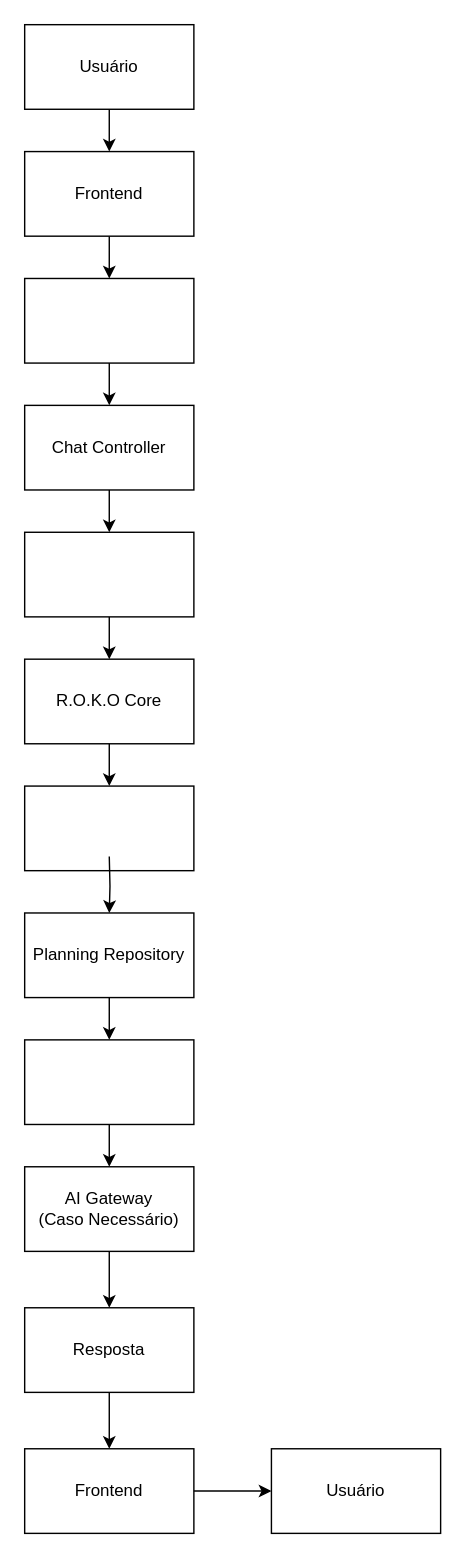
Image size: 465x1558. Some labels were removed from this diagram. The box of each missing label's shape, as (x1, y1, x2, y2) in pixels:
Chat Service: (23, 531, 194, 617)
Planning Module: (23, 785, 194, 871)
POST/api/chat: (23, 277, 194, 363)
PostgreSQL: (23, 1038, 194, 1124)
